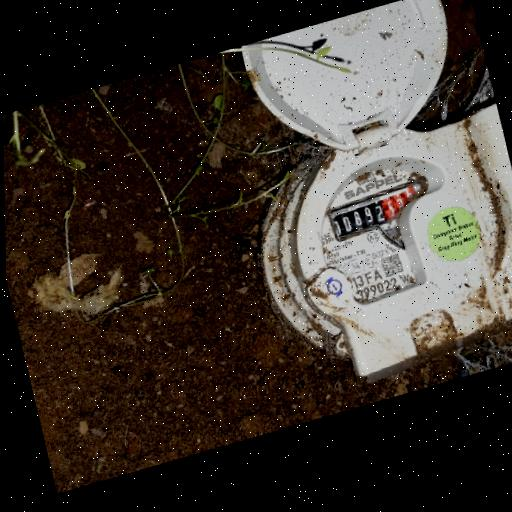0: (339, 210, 354, 235), (331, 213, 345, 237)
2: (371, 198, 386, 225), (393, 191, 409, 216)
4: (402, 183, 417, 204)
5: (382, 195, 399, 222)
8: (350, 206, 365, 231)
9: (360, 202, 376, 228)
border_water_meter_number: (327, 181, 428, 239)
